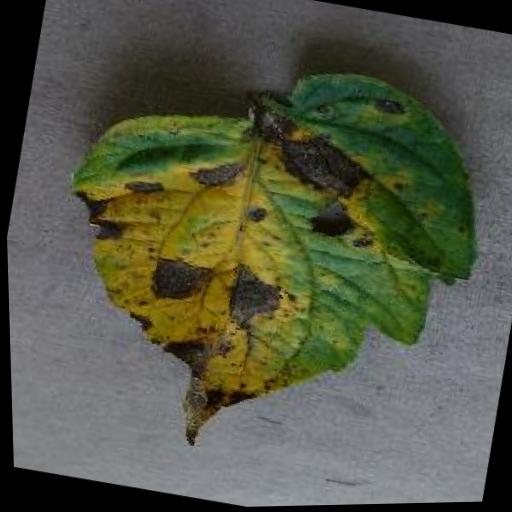Early Blight: (19, 21, 512, 500)
